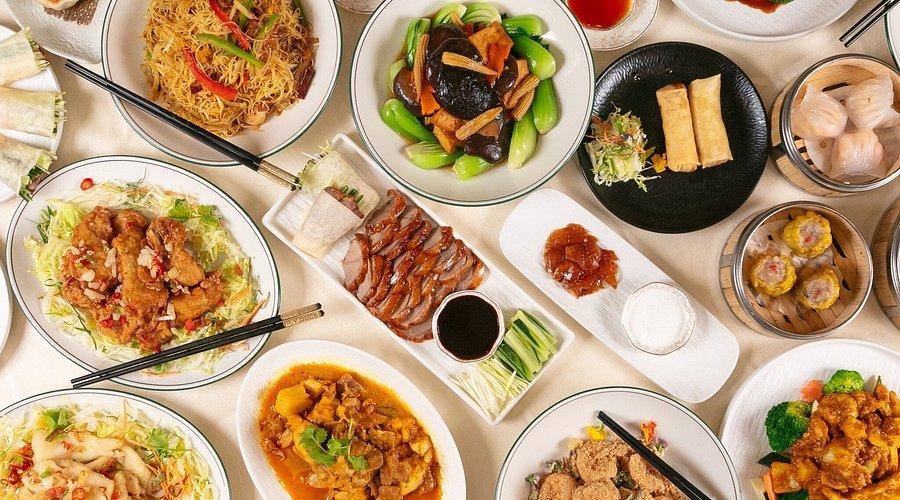Braised Crucian Carp: (244, 114, 588, 444), (474, 165, 766, 433), (8, 154, 281, 387), (349, 2, 586, 211), (104, 2, 335, 167), (235, 338, 461, 500), (581, 40, 768, 235), (725, 334, 900, 500), (722, 201, 874, 341), (770, 54, 900, 204)
